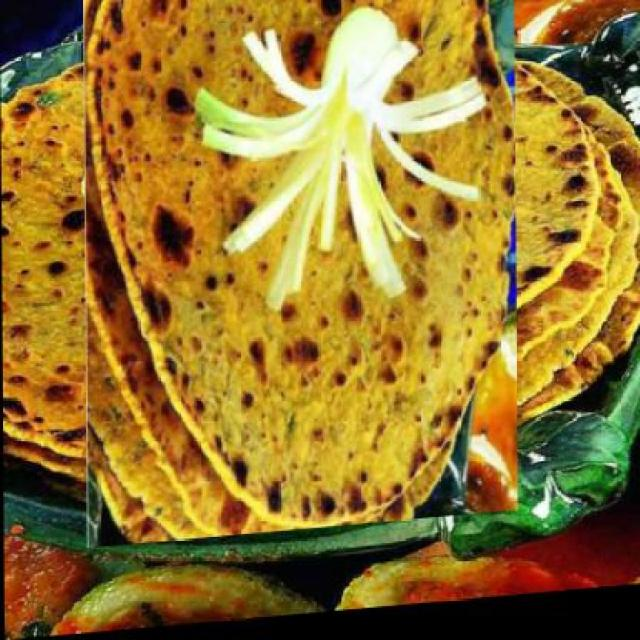chapati: (41, 0, 560, 512)
